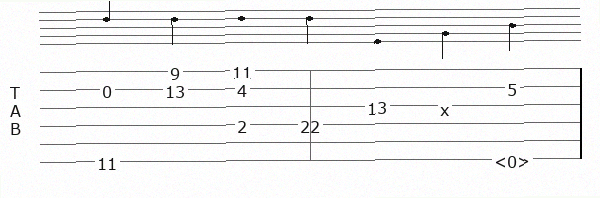0: (102, 80, 116, 96)
11: (97, 152, 121, 168), (232, 62, 256, 78)
13: (165, 80, 189, 96), (367, 98, 391, 114)
2: (237, 116, 251, 132)
22: (300, 116, 324, 132)
4: (237, 80, 251, 96)
5: (507, 80, 521, 96)
9: (170, 62, 184, 78)
harmonic: (494, 152, 534, 168)
x: (440, 100, 453, 113)
